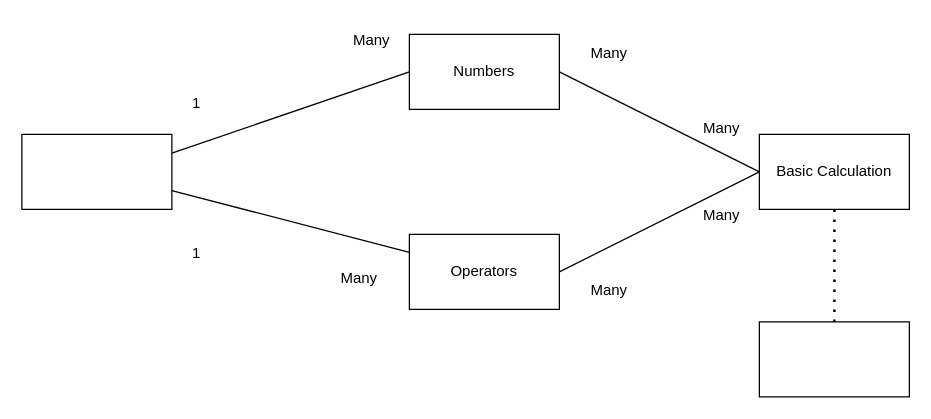
This 931x419 diagram has some shape labels left out. The shapes that lost their labels are listed below. From the top down, each one's centre as x and y in pixels, then its label:
At [96,171]: "Main".
At [833,359]: "Adv Calculations".
